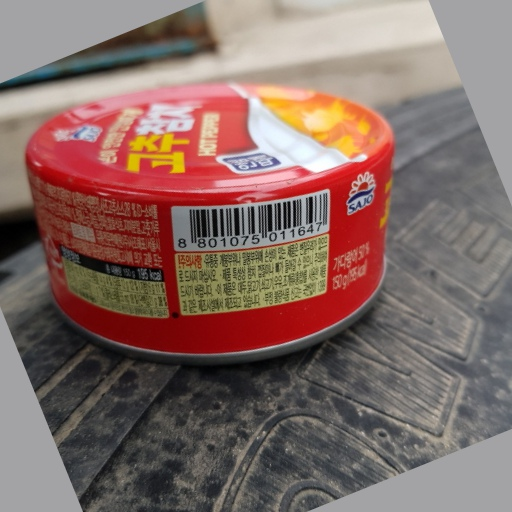Metal_1: (23, 81, 394, 366)
